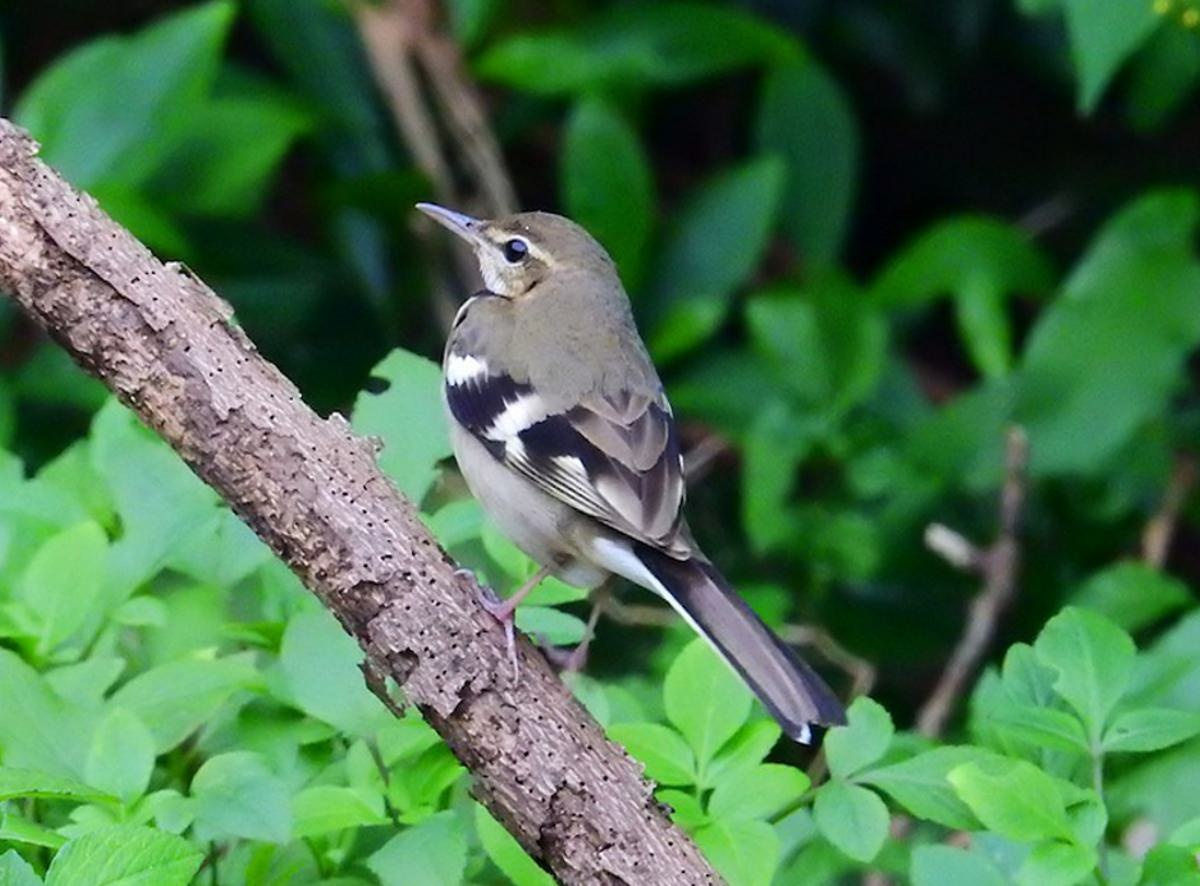wagtail: (413, 187, 844, 747)
